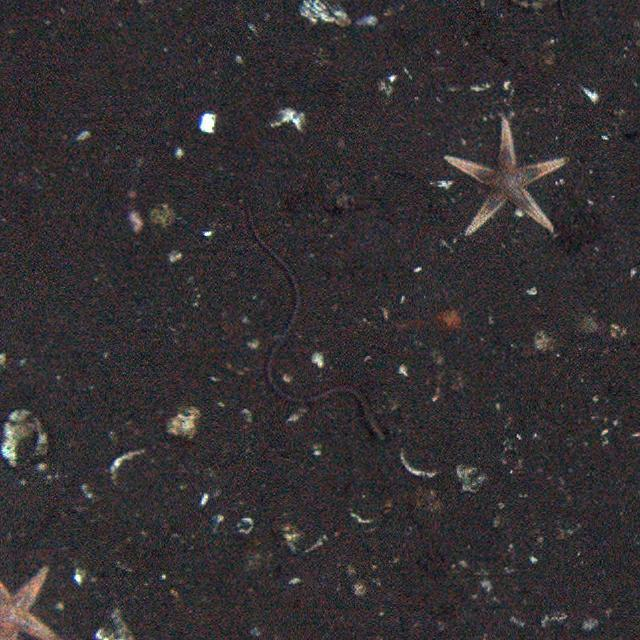eel: (244, 204, 388, 444)
